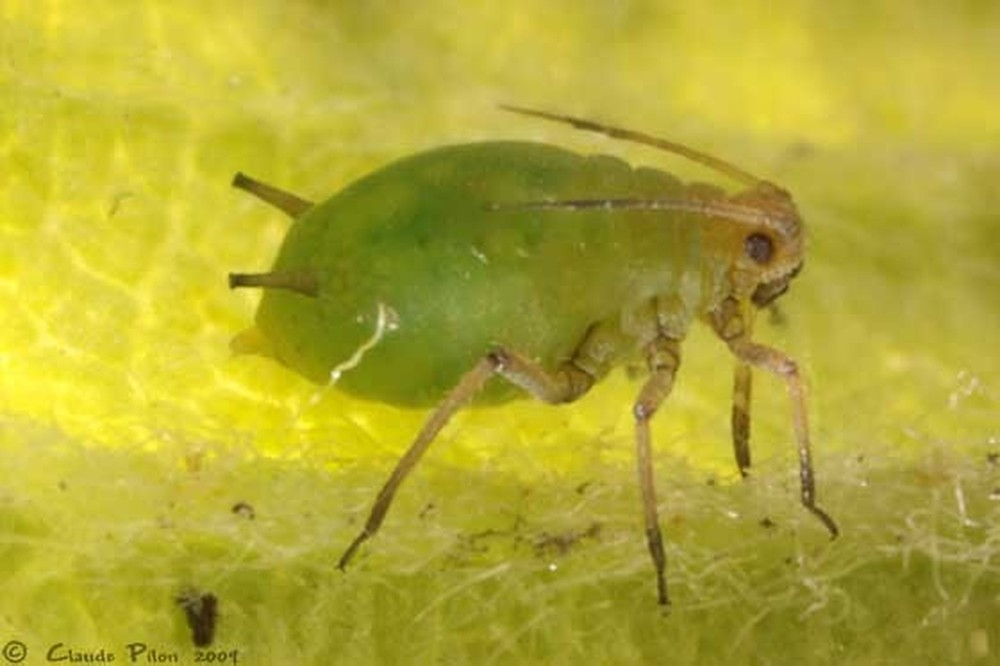Pulgon: (191, 77, 879, 581)
